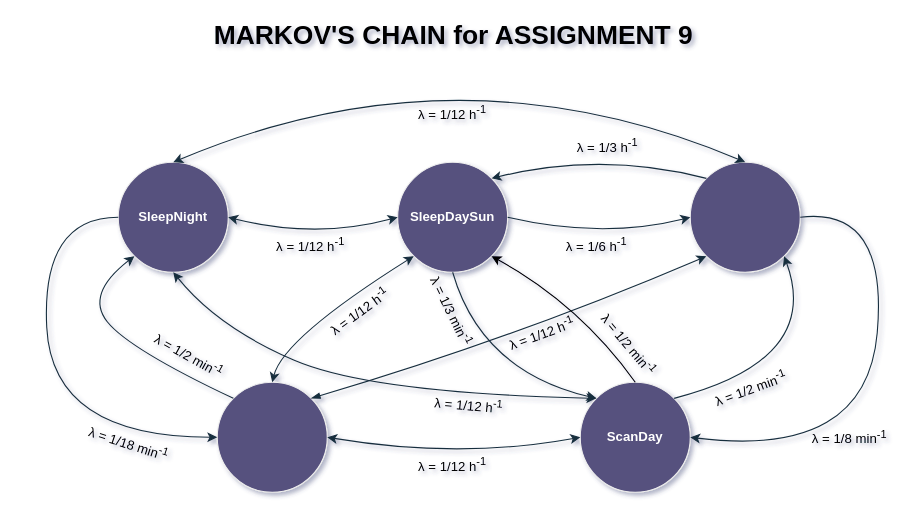
Image size: 913x518. Some labels were removed from this diagram. The shapes that lost their labels are listed below. From the top down, each one's box as (x1, y1, x2, y2) in pixels, then its label:
(689, 161, 800, 272): SleepDayCloud
(216, 381, 327, 492): ScanNight
